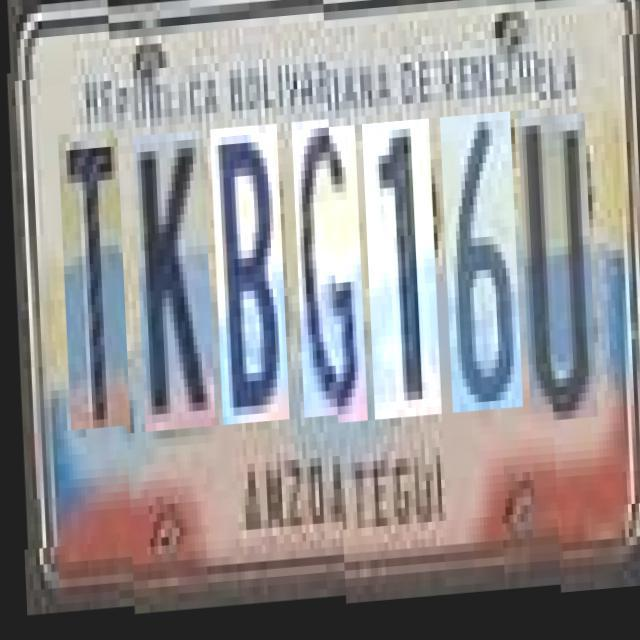1: (360, 119, 438, 418)
6: (438, 113, 519, 413)
B: (209, 129, 286, 429)
G: (291, 124, 364, 424)
K: (131, 134, 212, 434)
T: (57, 140, 126, 440)
U: (516, 107, 593, 416)
